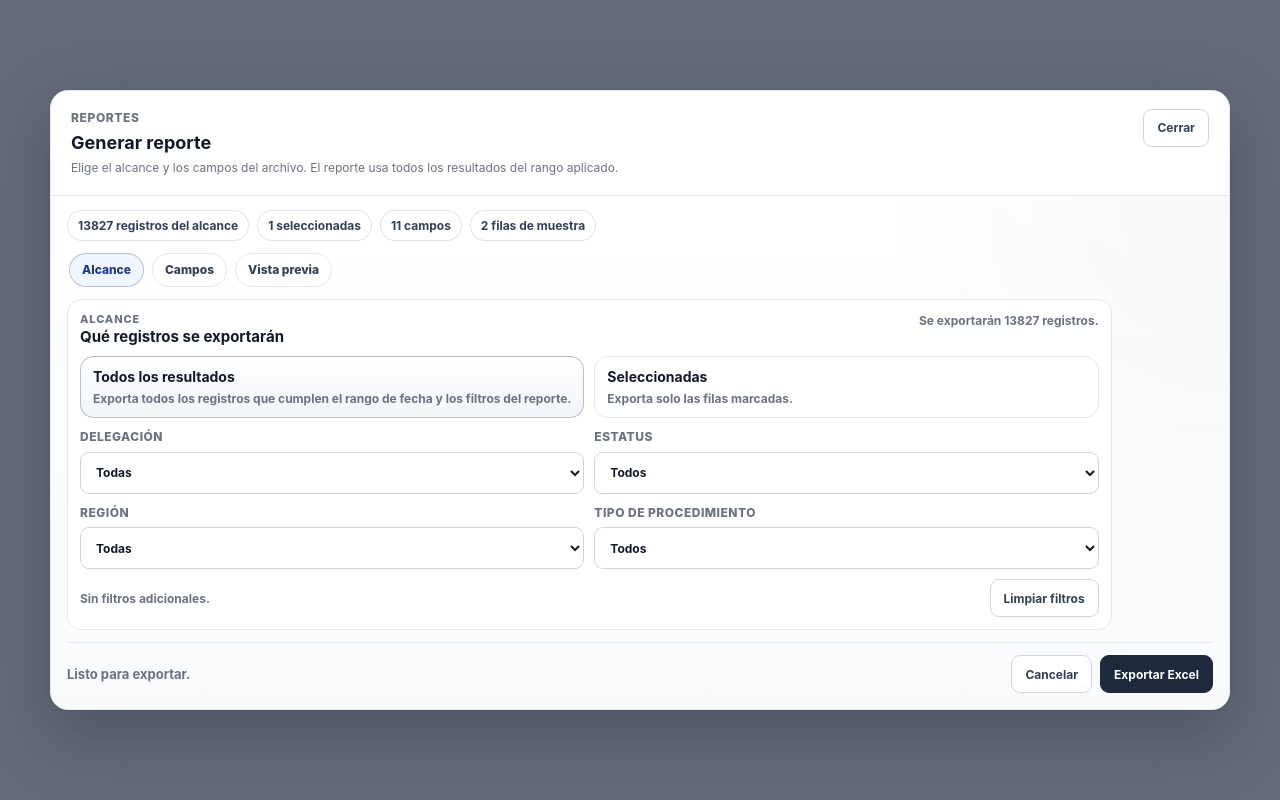
InfraccionesReportModal exportacion Excel › deshabilita Excel cuando la consulta vigente resuelve cero registros
The width and height of the screenshot is (1280, 800).
Expected: the text "13827 registros del alcance" is shown, [67, 210, 249, 241]
What coordinates should you click on to do the following:
click the button "Seleccionadas Exporta solo las filas marcadas."
I would click on:
 (657, 376)
Its box is [594, 356, 1099, 418].
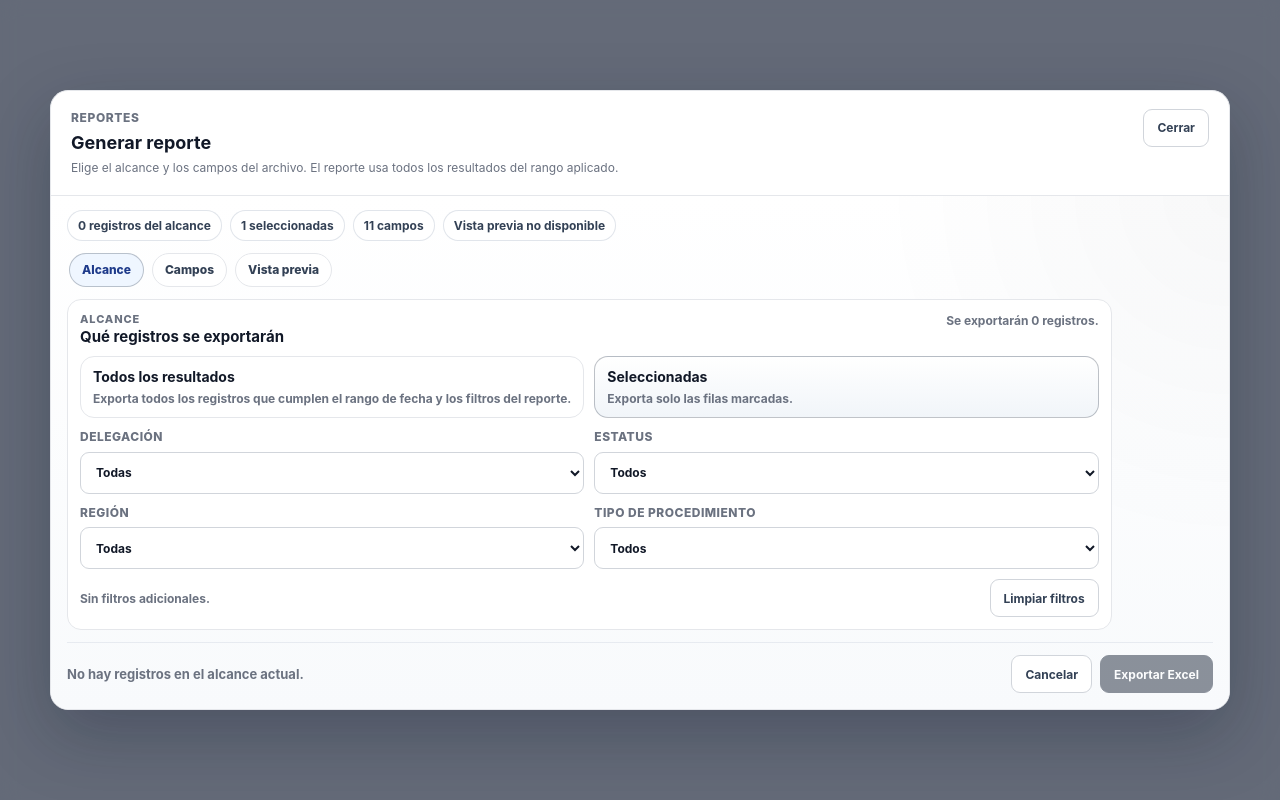
Now the text "Se exportarán 0 registros." is shown, box [946, 312, 1099, 329]
Now the button "Exportar Excel" is disabled, box [1100, 655, 1213, 693]
